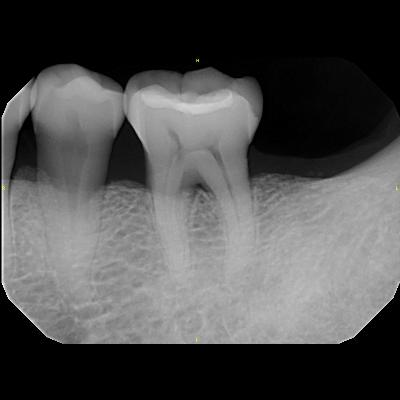tooth: (32, 62, 127, 308)
